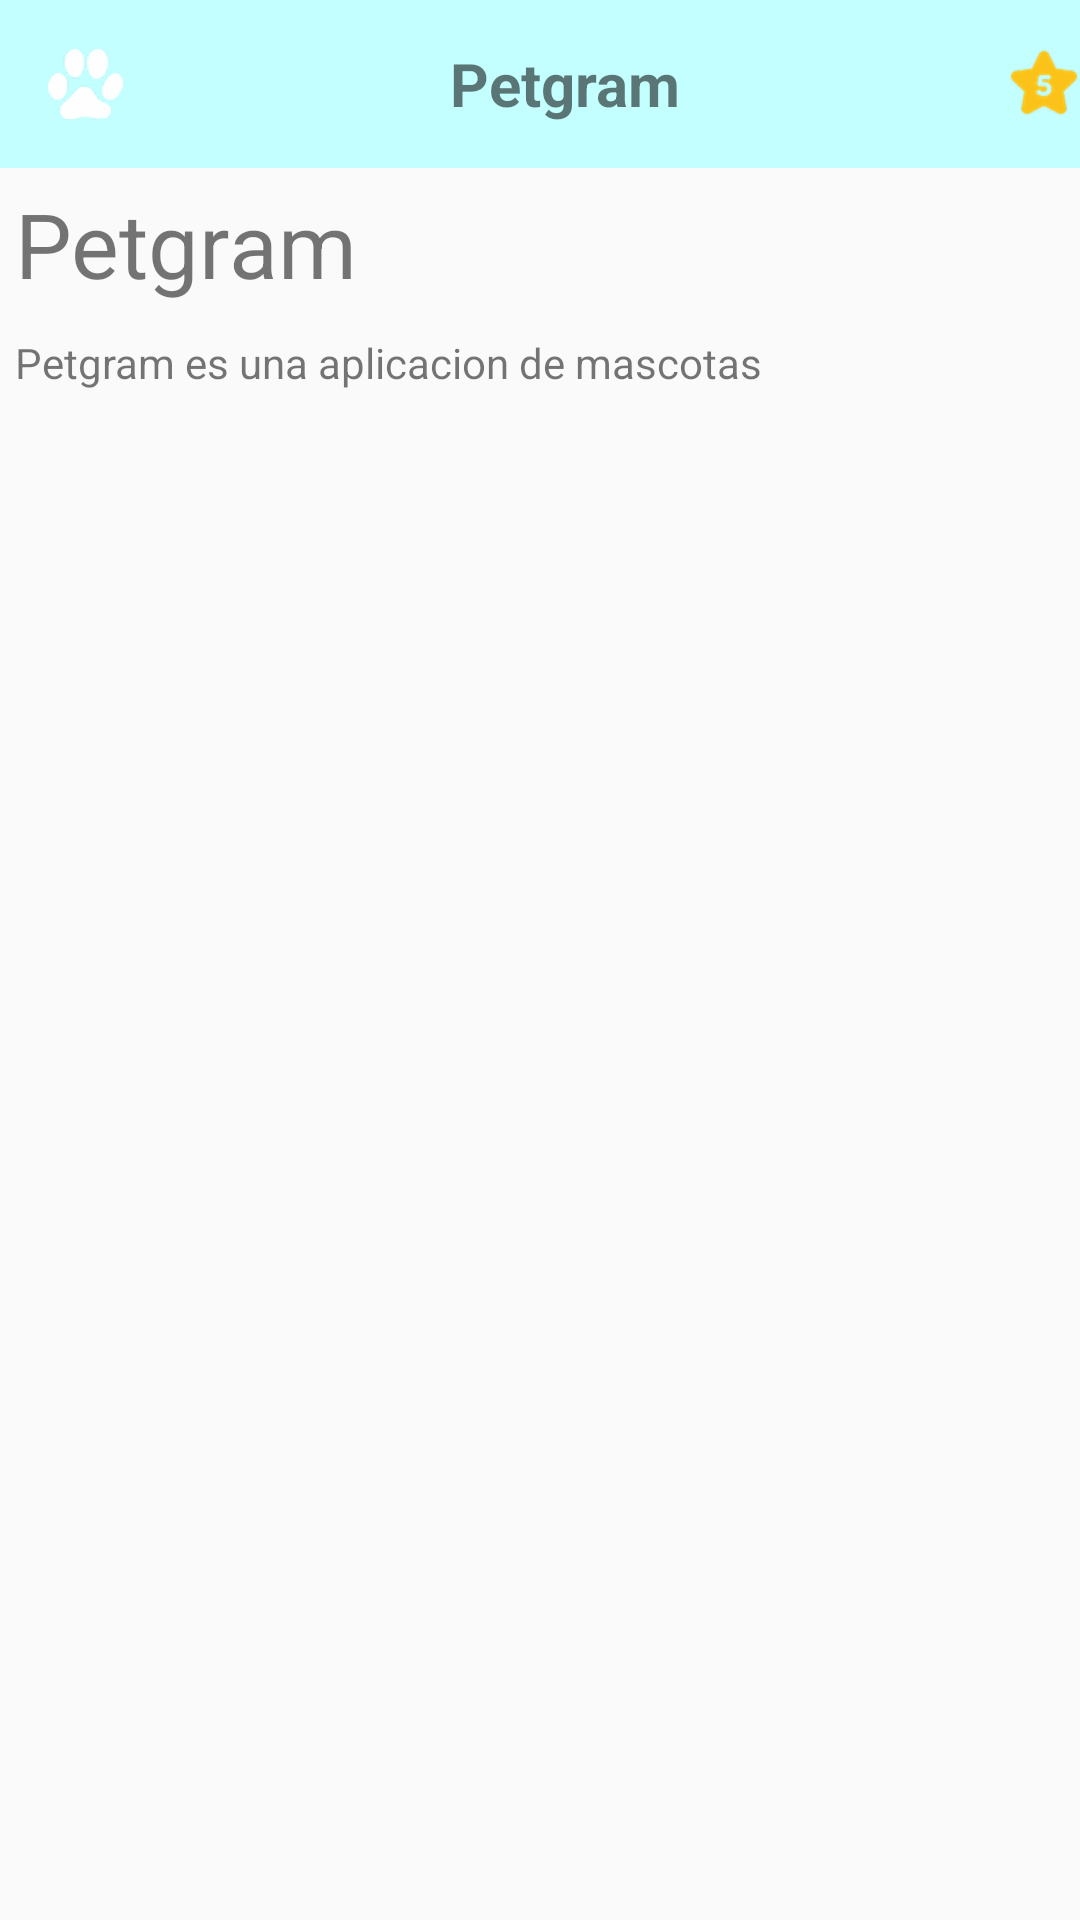

Screen size 1080px×1920px. Icon name, then its box in pixels as (x1,y1,x2,y2):
cat footprint: (48,49,123,119)
star: (1010,50,1078,115)
